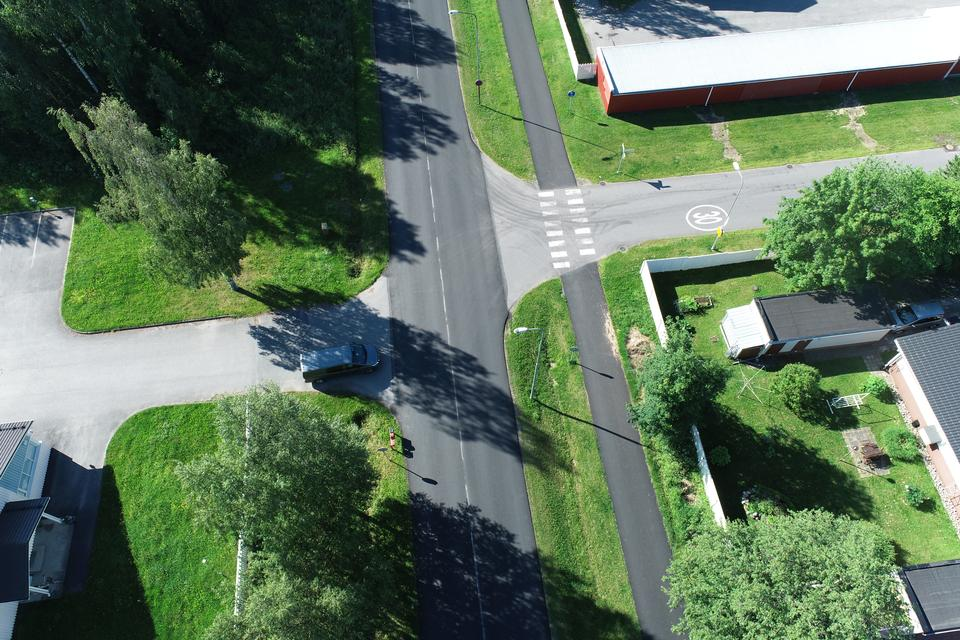intersection: (329, 148, 655, 397)
